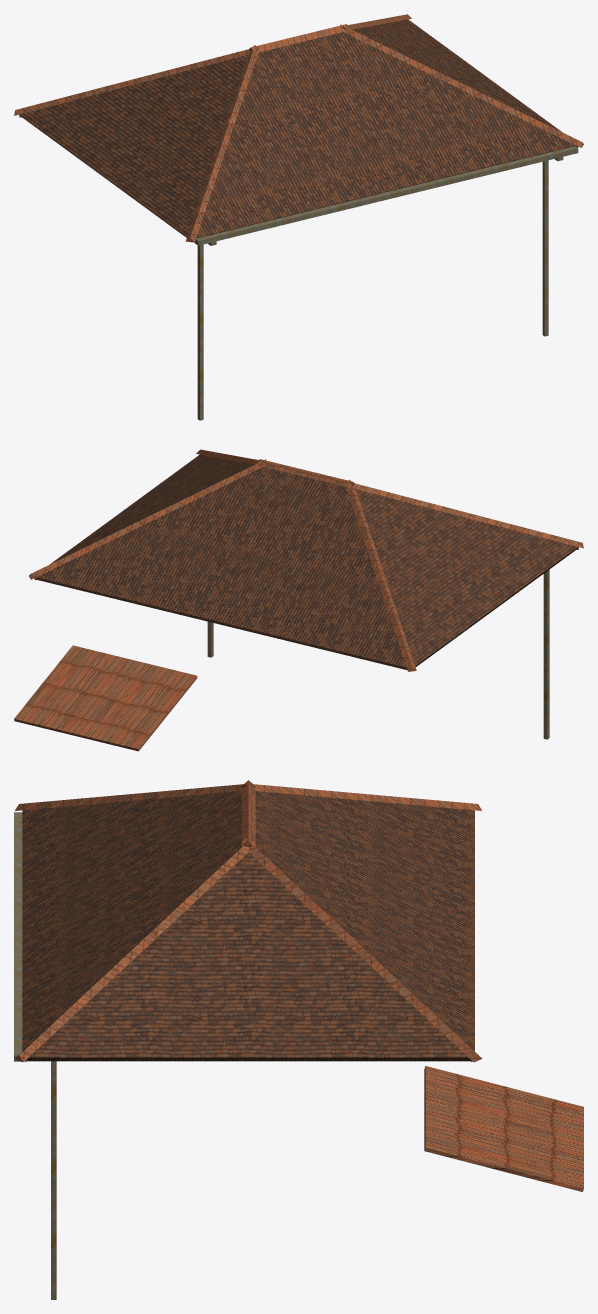
The model's file is Module_Roof.fbx.
3 views of the same model, one above another, from view 1: azimuth 30°, elevation 25°; view 2: azimuth 150°, elevation 25°; view 3: azimuth 270°, elevation 25° (orthographic). The views are drawn at different scales.
Parts seen in each view (by area): view 1: ROOF_main_front, ROOF_main_left, ROOF_main_right, GUTTER_front, RIDGE_hip_0, RIDGE_hip_1, RIDGE_hip_3, PIPE_downpipe_w, PIPE_downpipe_e, RIDGE_main; view 2: ROOF_main_back, ROOF_main_left, ROOF_annex, ROOF_main_right, RIDGE_hip_3, RIDGE_hip_2, RIDGE_hip_0, PIPE_downpipe_w, RIDGE_main; view 3: ROOF_main_right, ROOF_main_front, ROOF_main_back, ROOF_annex, RIDGE_hip_2, RIDGE_hip_1, GUTTER_front, RIDGE_hip_3, RIDGE_hip_0, PIPE_downpipe_e, RIDGE_main.
Boxes of the visible parts, x1=… form: ROOF_main_front: x1=196, y1=32, x2=576, y2=238; ROOF_main_left: x1=20, y1=55, x2=248, y2=237; ROOF_main_right: x1=352, y1=19, x2=577, y2=147; GUTTER_front: x1=194, y1=146, x2=578, y2=245; RIDGE_hip_0: x1=185, y1=45, x2=258, y2=242; RIDGE_hip_1: x1=340, y1=24, x2=583, y2=147; RIDGE_hip_3: x1=14, y1=47, x2=257, y2=115; PIPE_downpipe_w: x1=197, y1=244, x2=203, y2=420; PIPE_downpipe_e: x1=542, y1=160, x2=548, y2=336; RIDGE_main: x1=249, y1=24, x2=349, y2=53; ROOF_main_back: x1=36, y1=467, x2=407, y2=669; ROOF_main_left: x1=355, y1=489, x2=577, y2=666; ROOF_annex: x1=14, y1=645, x2=197, y2=751; ROOF_main_right: x1=34, y1=454, x2=254, y2=580; RIDGE_hip_3: x1=346, y1=479, x2=416, y2=671; RIDGE_hip_2: x1=29, y1=459, x2=266, y2=579; RIDGE_hip_0: x1=346, y1=481, x2=583, y2=548; PIPE_downpipe_w: x1=543, y1=569, x2=549, y2=739; RIDGE_main: x1=257, y1=459, x2=354, y2=487; ROOF_main_right: x1=26, y1=852, x2=470, y2=1061; ROOF_main_front: x1=22, y1=791, x2=241, y2=1062; ROOF_main_back: x1=255, y1=791, x2=474, y2=1061; ROOF_annex: x1=424, y1=1066, x2=583, y2=1191; RIDGE_hip_2: x1=241, y1=838, x2=482, y2=1062; RIDGE_hip_1: x1=15, y1=838, x2=255, y2=1062; GUTTER_front: x1=14, y1=812, x2=22, y2=1061; RIDGE_hip_3: x1=241, y1=783, x2=482, y2=810; RIDGE_hip_0: x1=15, y1=783, x2=255, y2=810; PIPE_downpipe_e: x1=51, y1=1061, x2=56, y2=1299; RIDGE_main: x1=241, y1=780, x2=255, y2=847.
Size of the model in its own units: 1467 by 1012 by 1385.
4 materials, 4 textured.
